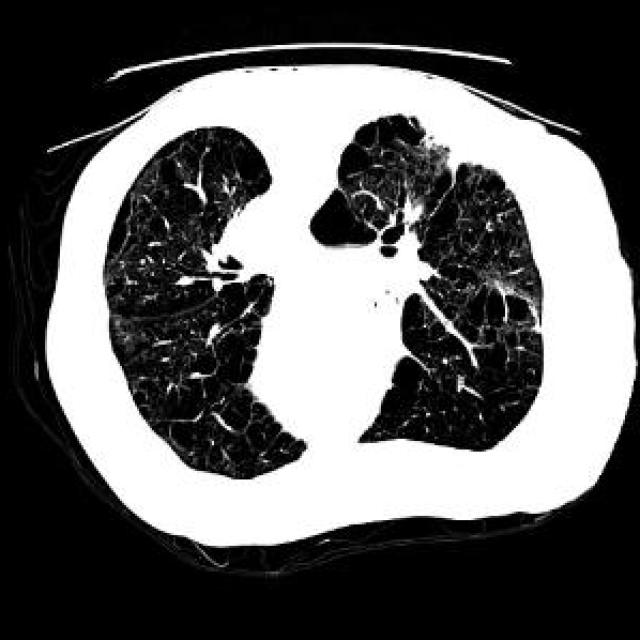Tumor: (226, 206, 271, 261)
